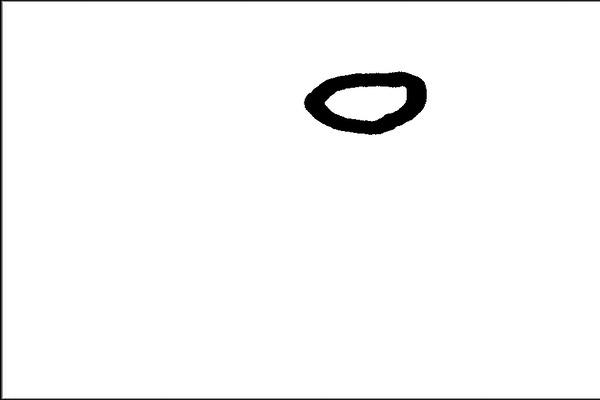O: (291, 66, 436, 143)
